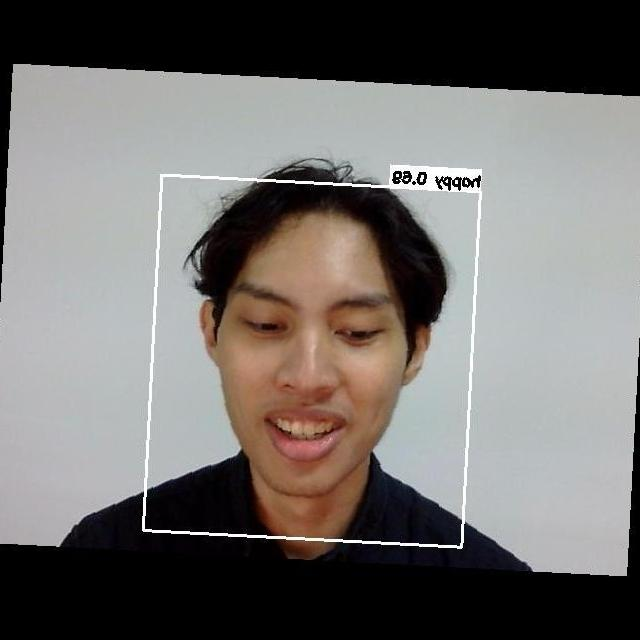Surprised: (218, 265, 415, 464)
